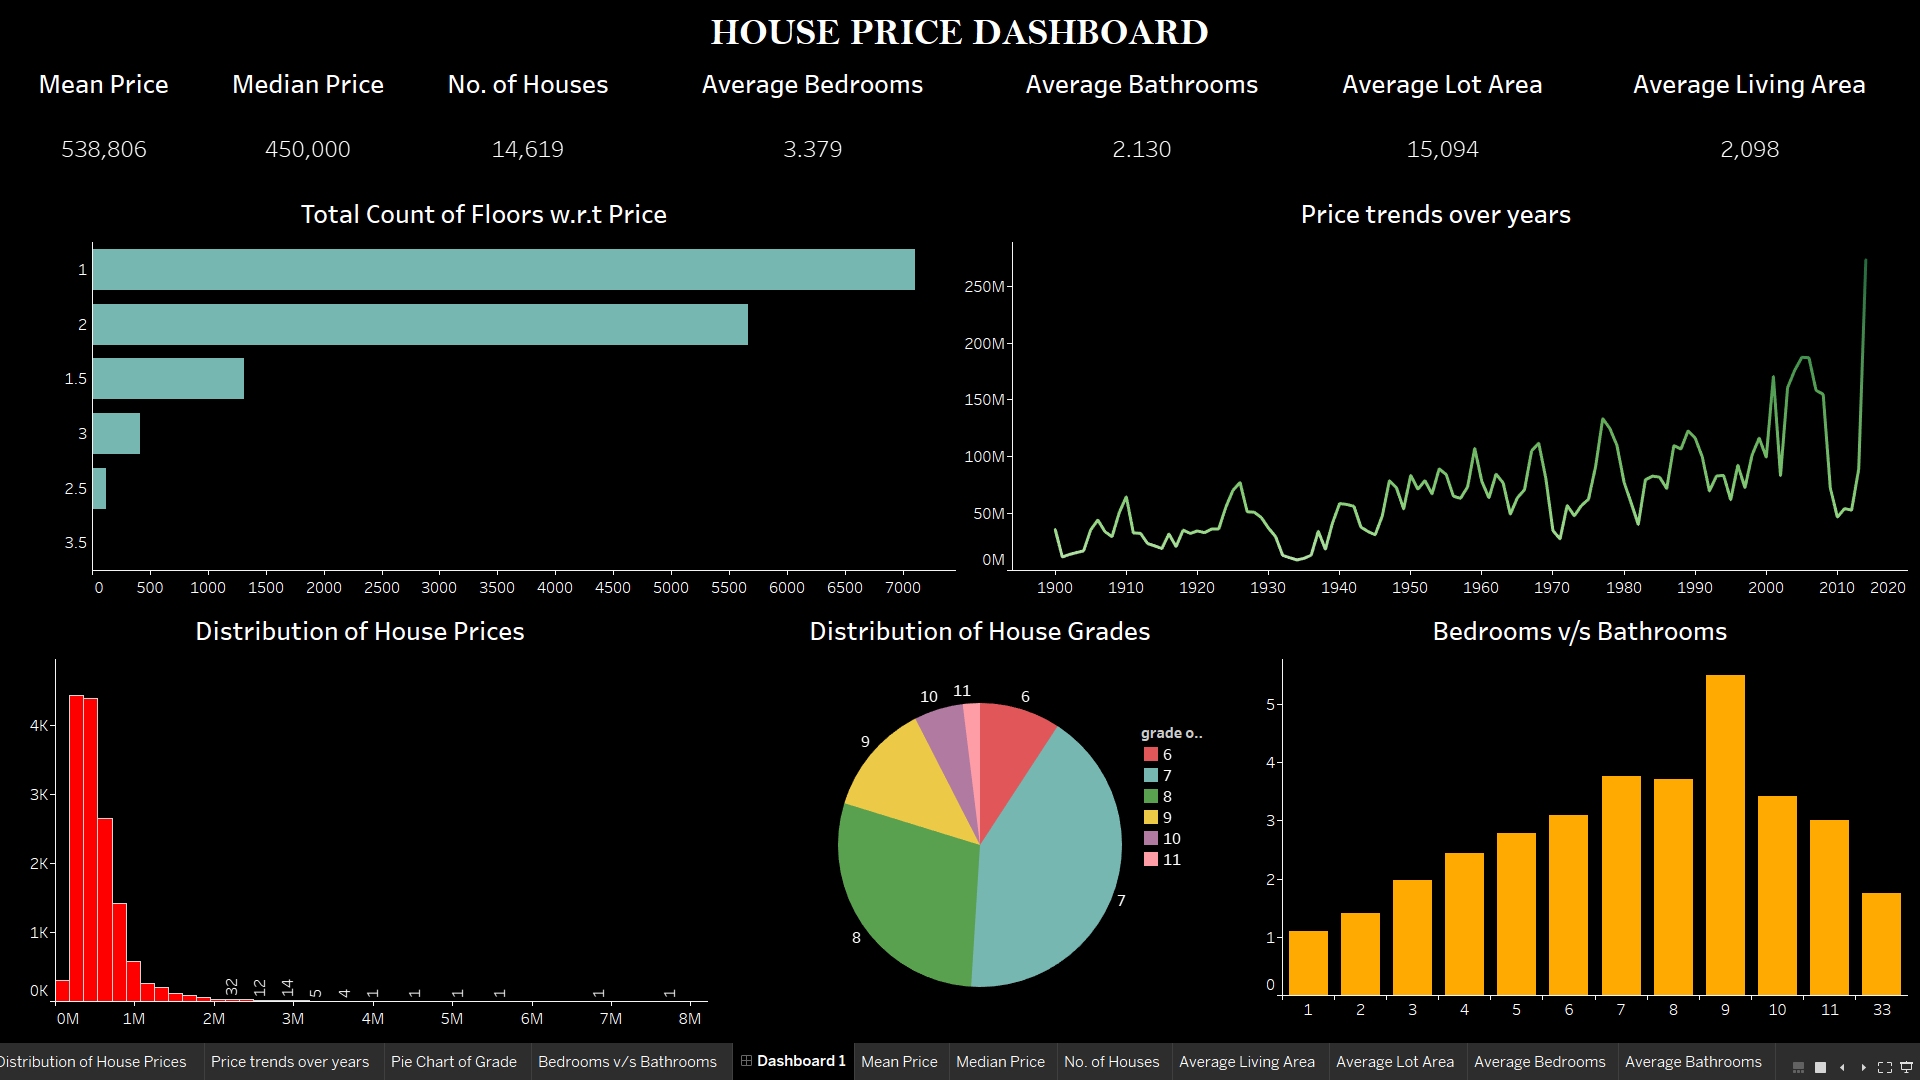

Layout of this report page (visuals, bound fields, positions):
{"tool":"tableau","page":{"name":"Dashboard 1","canvas":[1000,1000],"units":"permille","ordinal":0},"visuals":[{"type":"title","box":[4.8,9.3,990.3,58.1]},{"type":"worksheet","title":"Mean Price","mark":"Automatic","box":[4.8,67.4,99.5,123.3]},{"type":"worksheet","title":"Median Price","mark":"Automatic","box":[104.4,67.4,113.4,123.3]},{"type":"worksheet","title":"No. of Houses","mark":"Automatic","box":[217.8,67.4,115.3,123.3]},{"type":"worksheet","title":"Average Bedrooms","mark":"Automatic","box":[333.1,67.4,180.5,123.3]},{"type":"worksheet","title":"Average Bathrooms","mark":"Automatic","box":[513.5,67.4,162.3,123.3]},{"type":"worksheet","title":"Average Lot Area","mark":"Automatic","box":[675.9,67.4,150.3,123.3]},{"type":"worksheet","title":"Average Living Area","mark":"Automatic","box":[826.1,67.4,169,123.3]},{"type":"worksheet","title":"Count of Floors and Price","mark":"Automatic","rows":["number of floors"],"cols":["Price"],"box":[4.8,190.6,495.2,393.6]},{"type":"worksheet","title":"Price trends over years","mark":"Automatic","rows":["Price"],"cols":["Built Year"],"box":[500,190.6,495.2,393.6]},{"type":"worksheet","title":"Distribution of House Prices","mark":"Automatic","rows":["Price"],"cols":["Price (bin)"],"box":[4.8,584.2,366.3,406.5]},{"type":"worksheet","title":"Pie Chart of Grade","mark":"Pie","box":[371.1,584.2,278.8,406.5]},{"type":"worksheet","title":"Bedrooms v/s Bathrooms","mark":"Automatic","rows":["number of bathrooms"],"cols":["number of bedrooms"],"box":[649.9,584.2,345.2,406.5]},{"type":"legend","title":"Pie Chart of Grade","param":"[federated.0vseq7v1s6g4g21cienxz19ym0s3].[none:grade of the house:nk]","box":[594.5,692.2,34.4,285.7]}]}

Visuals, with their boxes on the dashboard's canvas, which has no fixed pixel size, in thousandths of its width and height (x1, y1, x2, y2). These are canvas units, not pixel positions in the 1920x1080 screenshot, which may show the page scaled, cropped or inside an application window:
title: [x1=5, y1=9, x2=995, y2=67]
"Mean Price" worksheet: [x1=5, y1=67, x2=104, y2=191]
"Median Price" worksheet: [x1=104, y1=67, x2=218, y2=191]
"No. of Houses" worksheet: [x1=218, y1=67, x2=333, y2=191]
"Average Bedrooms" worksheet: [x1=333, y1=67, x2=514, y2=191]
"Average Bathrooms" worksheet: [x1=514, y1=67, x2=676, y2=191]
"Average Lot Area" worksheet: [x1=676, y1=67, x2=826, y2=191]
"Average Living Area" worksheet: [x1=826, y1=67, x2=995, y2=191]
"Count of Floors and Price" worksheet: [x1=5, y1=191, x2=500, y2=584]
"Price trends over years" worksheet: [x1=500, y1=191, x2=995, y2=584]
"Distribution of House Prices" worksheet: [x1=5, y1=584, x2=371, y2=991]
"Pie Chart of Grade" worksheet (Pie marks): [x1=371, y1=584, x2=650, y2=991]
"Bedrooms v/s Bathrooms" worksheet: [x1=650, y1=584, x2=995, y2=991]
"Pie Chart of Grade" legend: [x1=594, y1=692, x2=629, y2=978]
